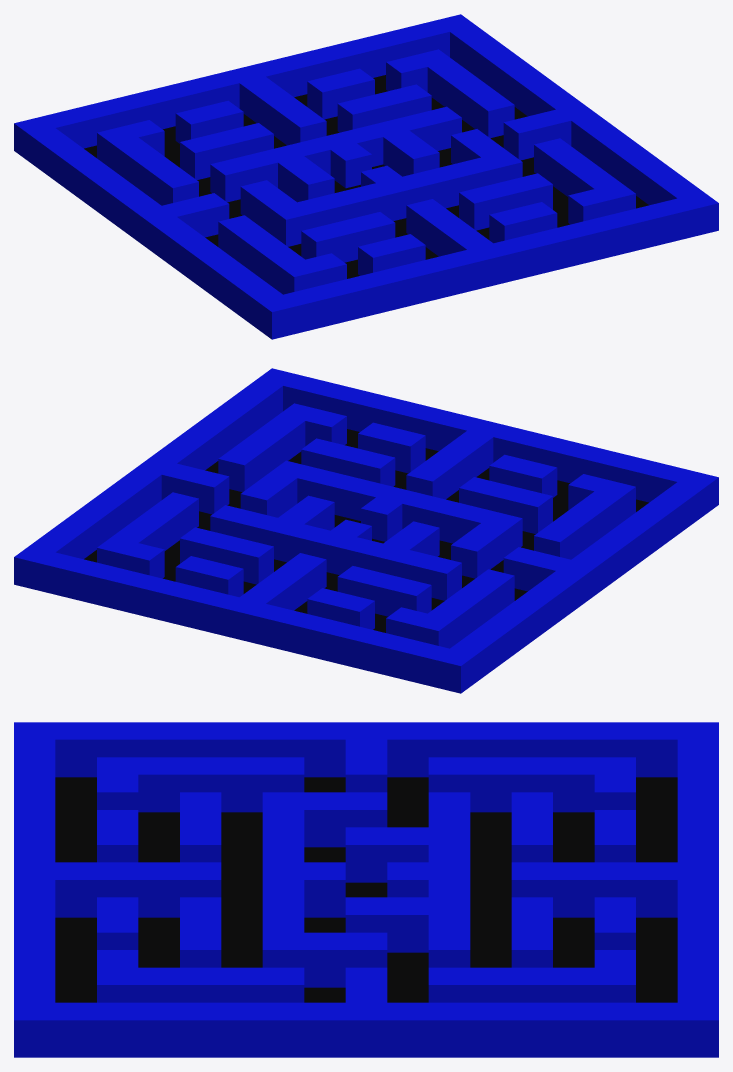
File: pacman_maze_cubes.dae
The picture shows the model from 3 angles, top to bottom: view 1: azimuth 30°, elevation 25°; view 2: azimuth 150°, elevation 25°; view 3: azimuth 270°, elevation 25°; orthographic projection. The views are drawn at different scales.
Parts seen in each view (by area): view 1: Plane, Cube.002, Cube.004, Cube.003, Cube.065, Cube.083, Cube.029, Cube.033, Cube.079, Cube.076, Cube.006, Cube.014 (+130 smaller); view 2: Plane, Cube.100, Cube.083, Cube.030, Cube.007, Cube.003, Cube.021, Cube.014, Cube.067, Cube.005, Cube.028, Cube.076 (+131 smaller); view 3: Plane, Cube.031, Cube.143, Cube.141, Cube.140, Cube.148, Cube.146, Cube.145, Cube.142, Cube.139, Cube.138, Cube.136 (+137 smaller).
Boxes of the visible parts, left/top/right/bottom form: Plane: left=84, top=75, right=648, bottom=278; Cube.002: left=257, top=295, right=298, bottom=339; Cube.004: left=330, top=143, right=371, bottom=188; Cube.003: left=210, top=158, right=251, bottom=202; Cube.065: left=473, top=94, right=514, bottom=138; Cube.083: left=503, top=116, right=544, bottom=160; Cube.029: left=459, top=186, right=500, bottom=230; Cube.033: left=271, top=202, right=312, bottom=246; Cube.079: left=307, top=75, right=348, bottom=119; Cube.076: left=180, top=136, right=221, bottom=179; Cube.006: left=386, top=55, right=427, bottom=92; Cube.014: left=301, top=224, right=342, bottom=260; Plane: left=84, top=429, right=648, bottom=632; Cube.100: left=434, top=649, right=475, bottom=693; Cube.083: left=188, top=470, right=229, bottom=514; Cube.030: left=451, top=534, right=492, bottom=578; Cube.007: left=232, top=540, right=273, bottom=584; Cube.003: left=420, top=556, right=461, bottom=600; Cube.021: left=384, top=429, right=425, bottom=473; Cube.014: left=511, top=490, right=552, bottom=533; Cube.067: left=218, top=448, right=259, bottom=492; Cube.005: left=361, top=497, right=402, bottom=541; Cube.028: left=305, top=409, right=346, bottom=446; Cube.076: left=390, top=578, right=431, bottom=614; Plane: left=55, top=777, right=677, bottom=1002; Cube.031: left=345, top=827, right=387, bottom=882; Cube.143: left=262, top=1002, right=304, bottom=1057; Cube.141: left=345, top=1002, right=387, bottom=1057; Cube.140: left=428, top=1002, right=470, bottom=1057; Cube.148: left=55, top=1002, right=96, bottom=1057; Cube.146: left=138, top=1002, right=179, bottom=1057; Cube.145: left=221, top=1002, right=262, bottom=1057; Cube.142: left=304, top=1002, right=345, bottom=1057; Cube.139: left=387, top=1002, right=428, bottom=1057; Cube.138: left=470, top=1002, right=511, bottom=1057; Cube.136: left=553, top=1002, right=594, bottom=1057.
Bounding box in the file's own units: 34 × 34 × 2.
